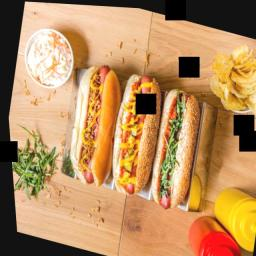hotdog: (52, 54, 134, 194), (99, 64, 171, 204), (138, 76, 210, 215)
